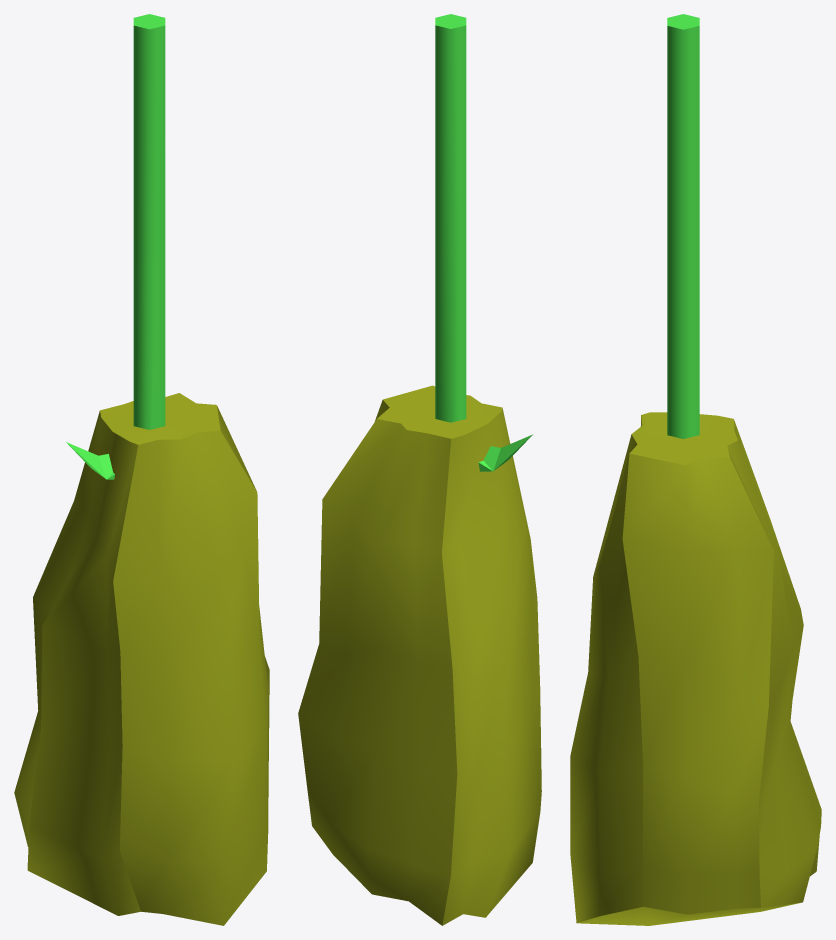
Rendered from MeatHook.fbx.
3 views of the same model, side by side, from view 1: azimuth 30°, elevation 25°; view 2: azimuth 150°, elevation 25°; view 3: azimuth 270°, elevation 25° (orthographic). The views are drawn at different scales.
Parts seen in each view (by area): view 1: HookMeat, Hook; view 2: HookMeat, Hook; view 3: HookMeat, Hook.
Boxes of the visible parts, x1=… form: HookMeat: x1=14, y1=393, x2=269, y2=925; Hook: x1=66, y1=14, x2=165, y2=479; HookMeat: x1=298, y1=385, x2=541, y2=925; Hook: x1=435, y1=14, x2=532, y2=471; HookMeat: x1=570, y1=412, x2=821, y2=925; Hook: x1=667, y1=14, x2=699, y2=438.
Bounding box in the file's own units: 26.17 × 104 × 26.43.
